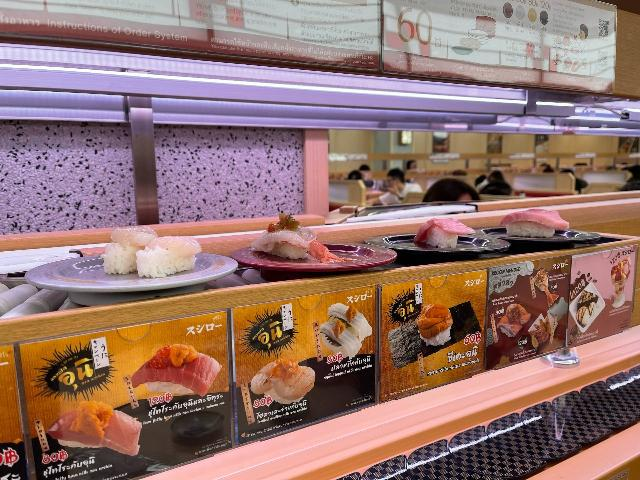janback: (472, 200, 598, 256), (371, 227, 508, 272)
janwhite: (0, 237, 239, 310), (239, 225, 396, 284)
